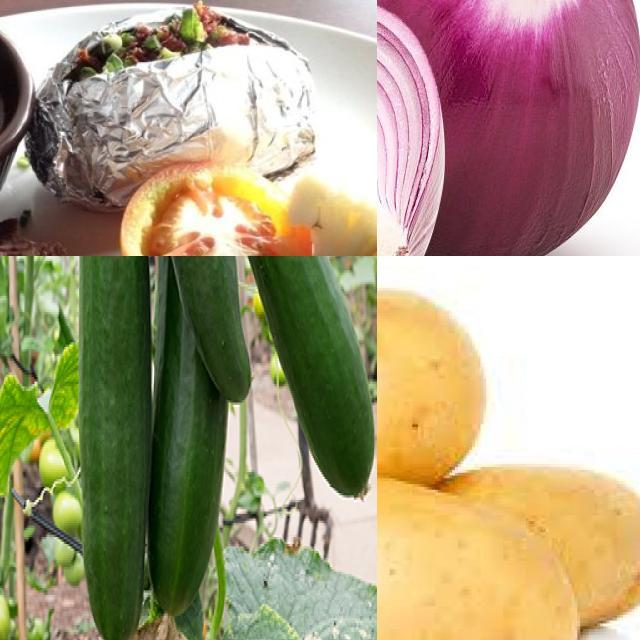cucumber: (207, 257, 378, 502), (74, 257, 152, 640), (149, 257, 228, 624), (139, 257, 253, 407)
onion: (378, 1, 640, 257), (378, 1, 447, 257)
potato: (437, 467, 640, 630), (378, 482, 577, 640), (378, 288, 486, 481)
tomato: (120, 162, 311, 257)
